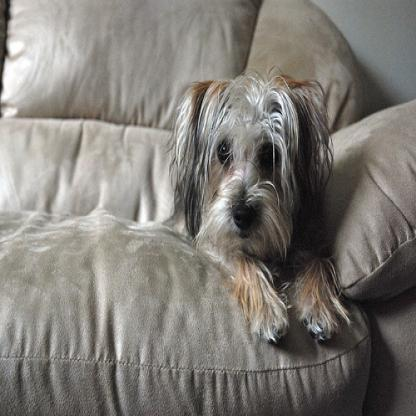dog: (169, 66, 351, 346)
